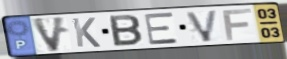B: (108, 14, 145, 48)
E: (142, 11, 181, 47)
F: (221, 7, 254, 42)
K: (70, 17, 103, 49)
V: (29, 15, 68, 54), (183, 9, 220, 44)
